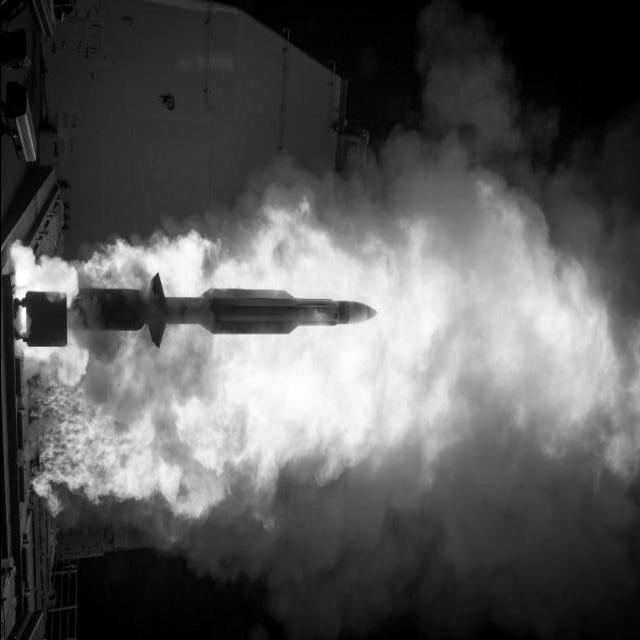missile: (66, 284, 384, 336)
